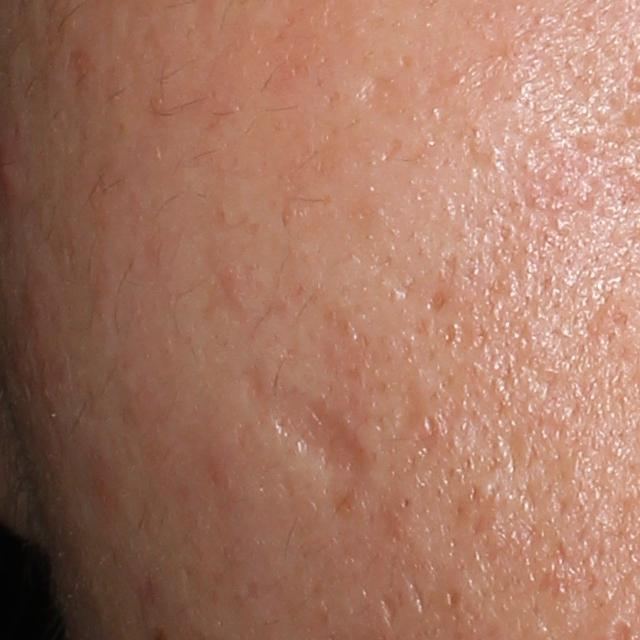atrophic_scar: (251, 368, 371, 471), (350, 75, 402, 116), (400, 579, 429, 631), (375, 594, 397, 629)
papule: (0, 148, 26, 205)
